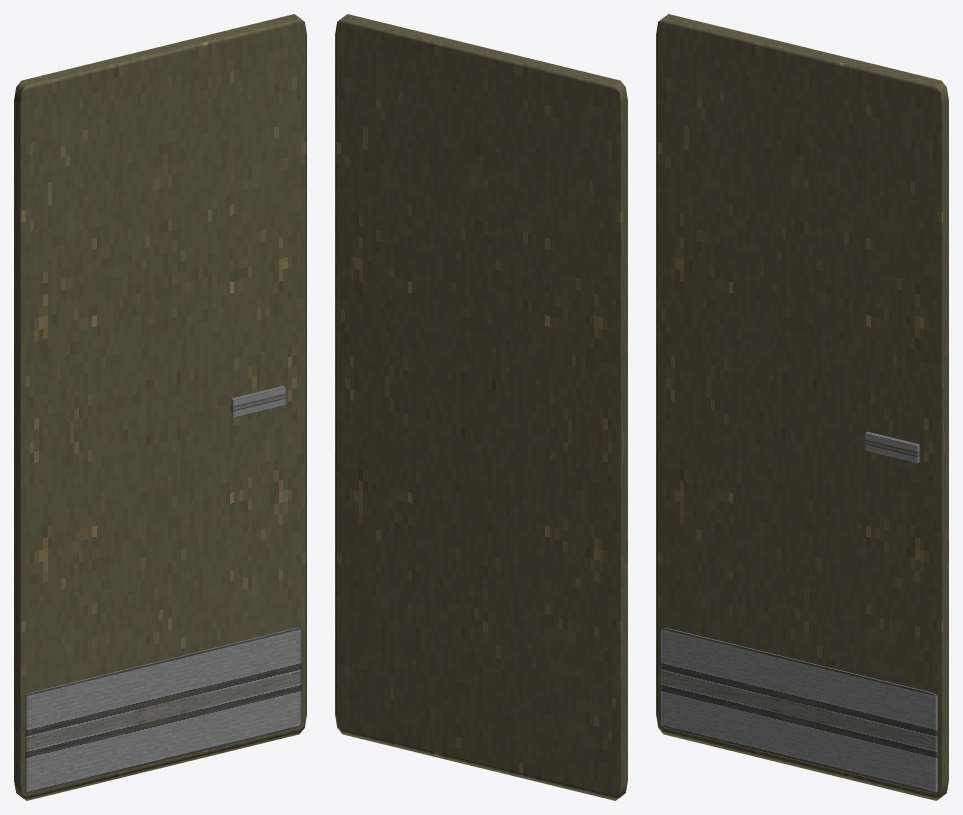
File: steel-door.glb
3 views of the same model, side by side, from view 1: azimuth 30°, elevation 25°; view 2: azimuth 150°, elevation 25°; view 3: azimuth 330°, elevation 25° (orthographic).
Parts seen in each view (by area): view 1: leaf, kick, lever; view 2: leaf; view 3: leaf, kick, lever.
Part boxes in pixels (x1=…): leaf: x1=14, y1=14, x2=306, y2=800; kick: x1=25, y1=628, x2=301, y2=793; lever: x1=231, y1=386, x2=285, y2=417; leaf: x1=335, y1=14, x2=627, y2=800; leaf: x1=656, y1=14, x2=948, y2=800; kick: x1=661, y1=628, x2=937, y2=793; lever: x1=865, y1=432, x2=919, y2=463.
Bounding box in the file's own units: 0.882 × 2.1 × 0.0418.
Materials: 2 (2 with a texture image).
